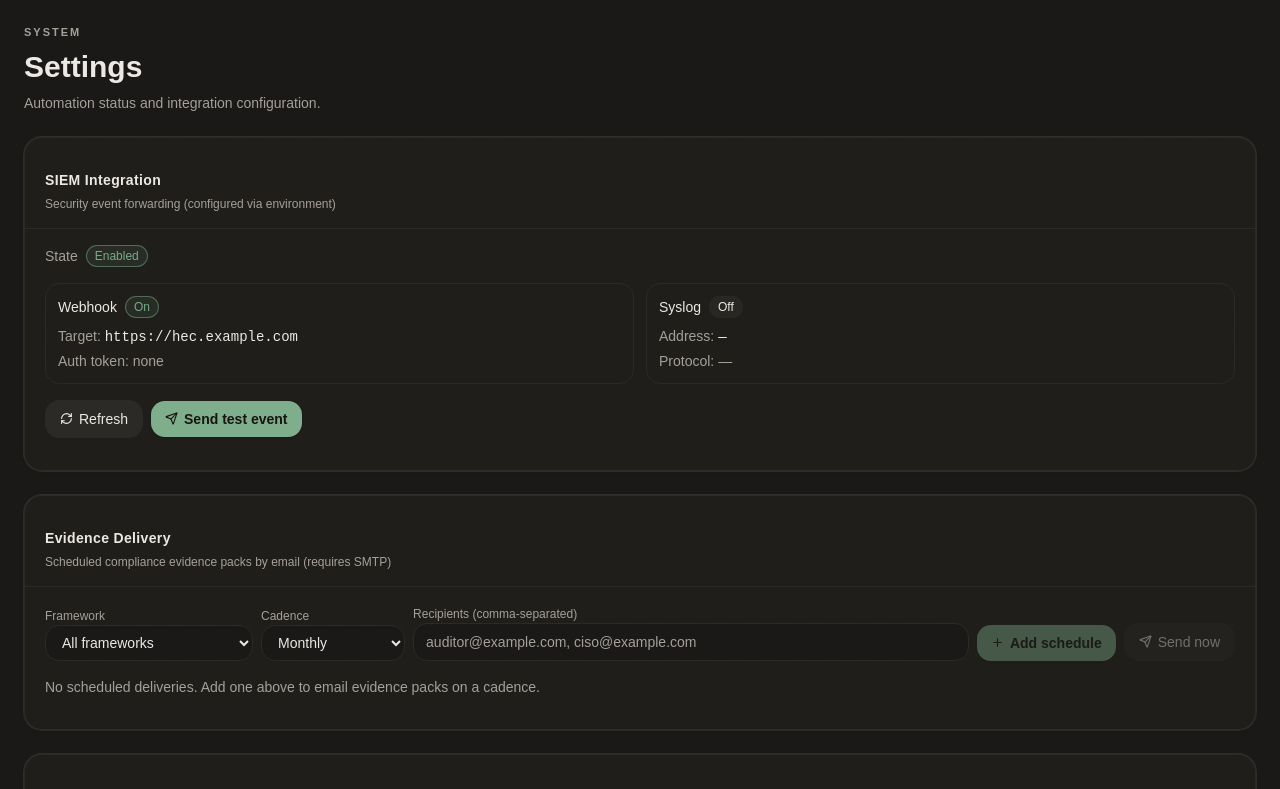
Test: Settings — SIEM panel › sends a test event and shows per-target results
Click the button "Send test event".
click(226, 418)  # box [151, 400, 302, 436]
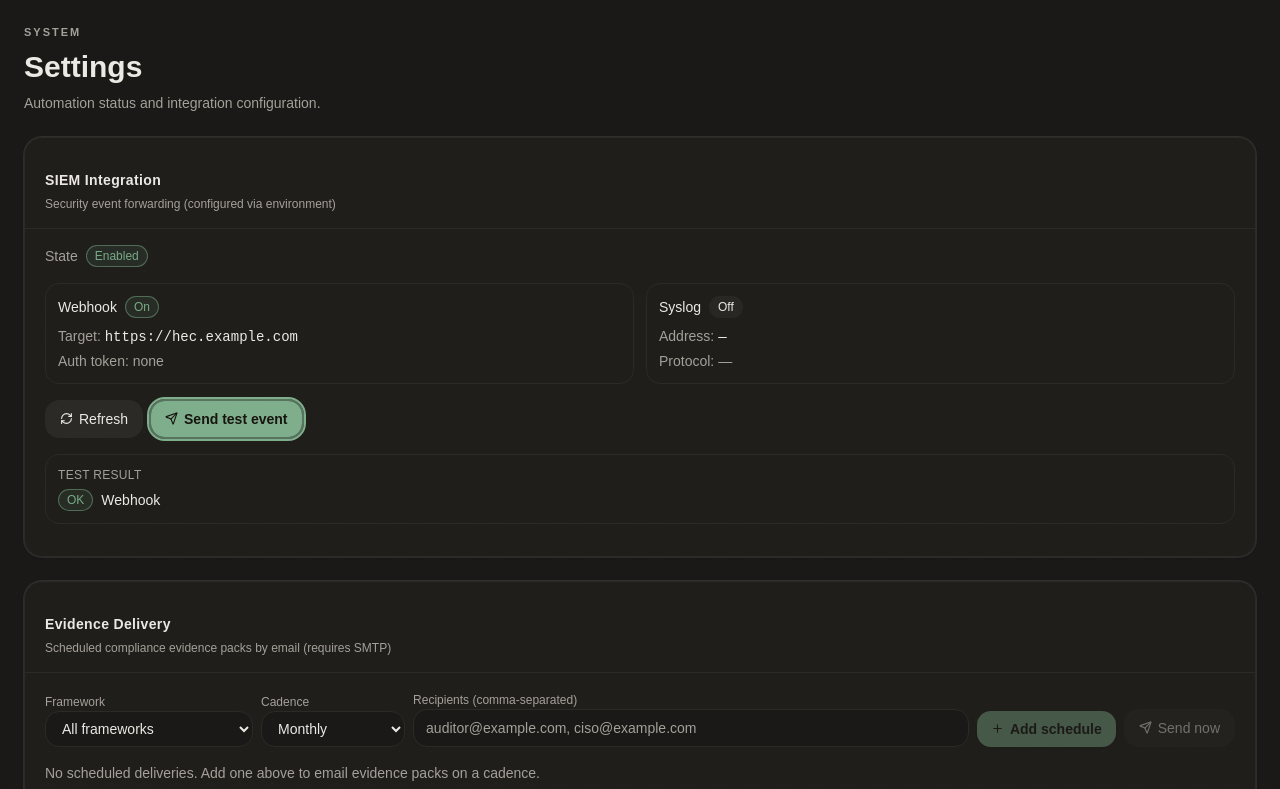
Expected: the text "Test result" is shown, [58, 468, 142, 482]
Expected: the text "OK" is shown, [58, 488, 93, 510]
